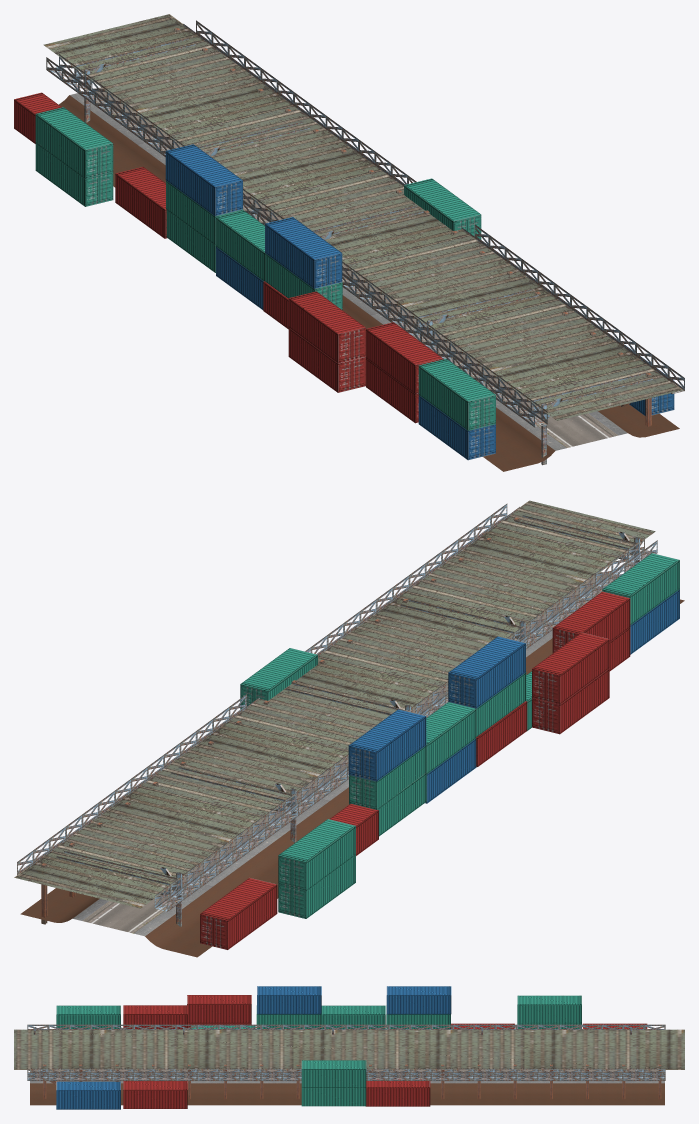
Rendered from road.glb.
3 views of the same model, one above another, from view 1: azimuth 30°, elevation 25°; view 2: azimuth 150°, elevation 25°; view 3: azimuth 270°, elevation 25° (orthographic). The views are drawn at different scales.
Parts seen in each view (by area): view 1: Plane.001, Plane.003, Plane, Cube.019, Cube.007, Cube.003, Cube.008, Cube.010, Cube.006, Cube.014, Plane.002, Cube.016 (+12 smaller); view 2: Plane.001, Plane.003, Plane, Cube.010, Cube.008, Cube.007, Cube.018, Cube.019, Cube.003, Plane.002, Cube.006, Cube.016 (+12 smaller); view 3: Plane.001, Plane, Plane.003, Cube.010, Cube.008, Cube.021, Cube.019, Cube.025, Cube.007, Cube.022, Cube.023, Cube.003 (+9 smaller).
Boxes of the visible parts, x1,y1,x2,y2 form: Plane.001: (43, 14, 682, 420); Plane.003: (46, 20, 684, 427); Plane: (59, 87, 679, 471); Cube.019: (35, 107, 113, 179); Cube.007: (288, 291, 365, 363); Cube.003: (418, 358, 495, 430); Cube.008: (265, 217, 342, 288); Cube.010: (165, 144, 242, 215); Cube.006: (366, 322, 443, 394); Cube.014: (115, 167, 167, 238); Plane.002: (76, 38, 653, 417); Cube.016: (216, 210, 265, 281); Plane.001: (14, 500, 655, 908); Plane.003: (17, 503, 657, 911); Plane: (20, 572, 684, 957); Cube.010: (348, 709, 426, 781); Cube.008: (448, 636, 525, 708); Cube.007: (532, 632, 609, 704); Cube.018: (200, 877, 277, 949); Cube.019: (278, 819, 355, 891); Cube.003: (602, 553, 679, 624); Plane.002: (56, 515, 635, 894); Cube.006: (552, 591, 630, 652); Cube.016: (426, 702, 476, 773); Plane.001: (14, 1029, 684, 1069); Plane: (30, 1070, 664, 1105); Plane.003: (27, 1024, 665, 1080); Cube.010: (386, 986, 451, 1014); Cube.008: (257, 986, 321, 1014); Cube.021: (56, 1081, 120, 1109); Cube.019: (517, 995, 581, 1023); Cube.025: (301, 1060, 366, 1088); Cube.007: (187, 995, 251, 1022); Cube.022: (123, 1081, 187, 1108); Cube.023: (366, 1078, 430, 1106); Cube.003: (56, 1005, 120, 1028).
Bounding box in the file's own units: 11.65 × 4.49 × 43.92.
Materials: 7 (7 with a texture image).
